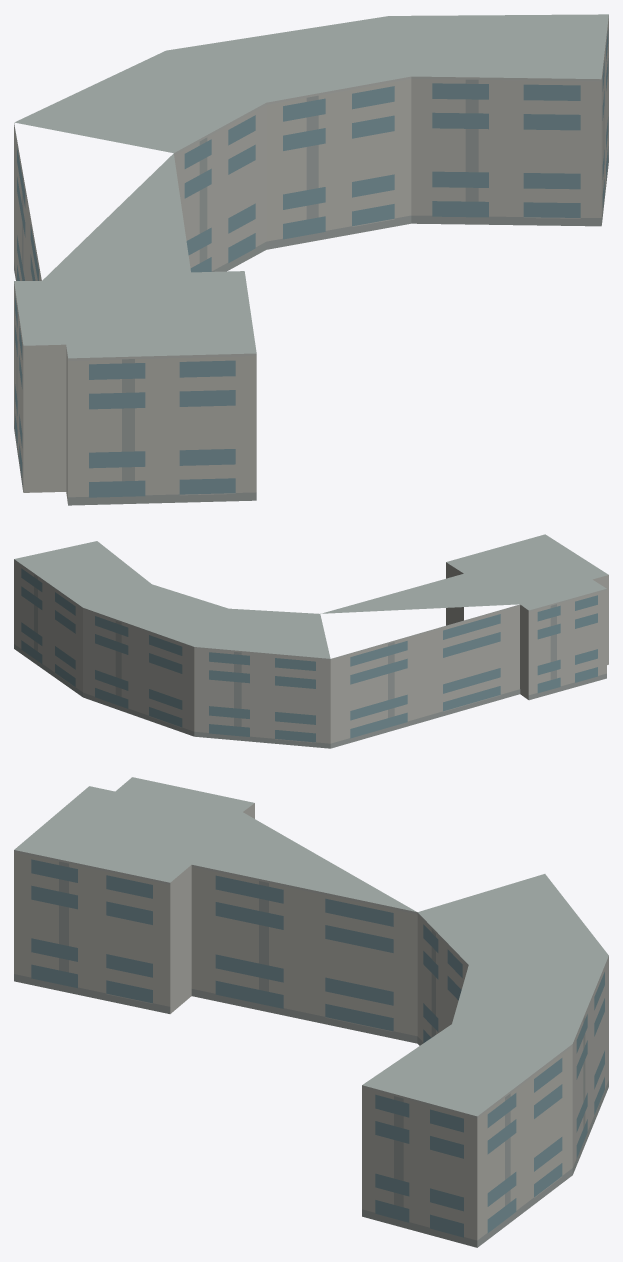
Rendered from residential-ca2561e2-9bd9-4f94-b348-7a03a25eb921.glb.
3 renders of one model, top to bottom at view 1: azimuth 30°, elevation 25°; view 2: azimuth 150°, elevation 25°; view 3: azimuth 270°, elevation 25°, orthographic. The views are drawn at different scales.
Visible parts, largest first — view 1: residential-ca2561e2-9bd9-4f94-b348-7a03a25eb921.tmp; view 2: residential-ca2561e2-9bd9-4f94-b348-7a03a25eb921.tmp; view 3: residential-ca2561e2-9bd9-4f94-b348-7a03a25eb921.tmp.
Part boxes in pixels (bbox=[...]): residential-ca2561e2-9bd9-4f94-b348-7a03a25eb921.tmp: bbox=[14, 14, 608, 505]; residential-ca2561e2-9bd9-4f94-b348-7a03a25eb921.tmp: bbox=[14, 534, 608, 748]; residential-ca2561e2-9bd9-4f94-b348-7a03a25eb921.tmp: bbox=[14, 777, 608, 1247].
Bounding box in the file's own units: 84.45 × 15.25 × 62.56.
